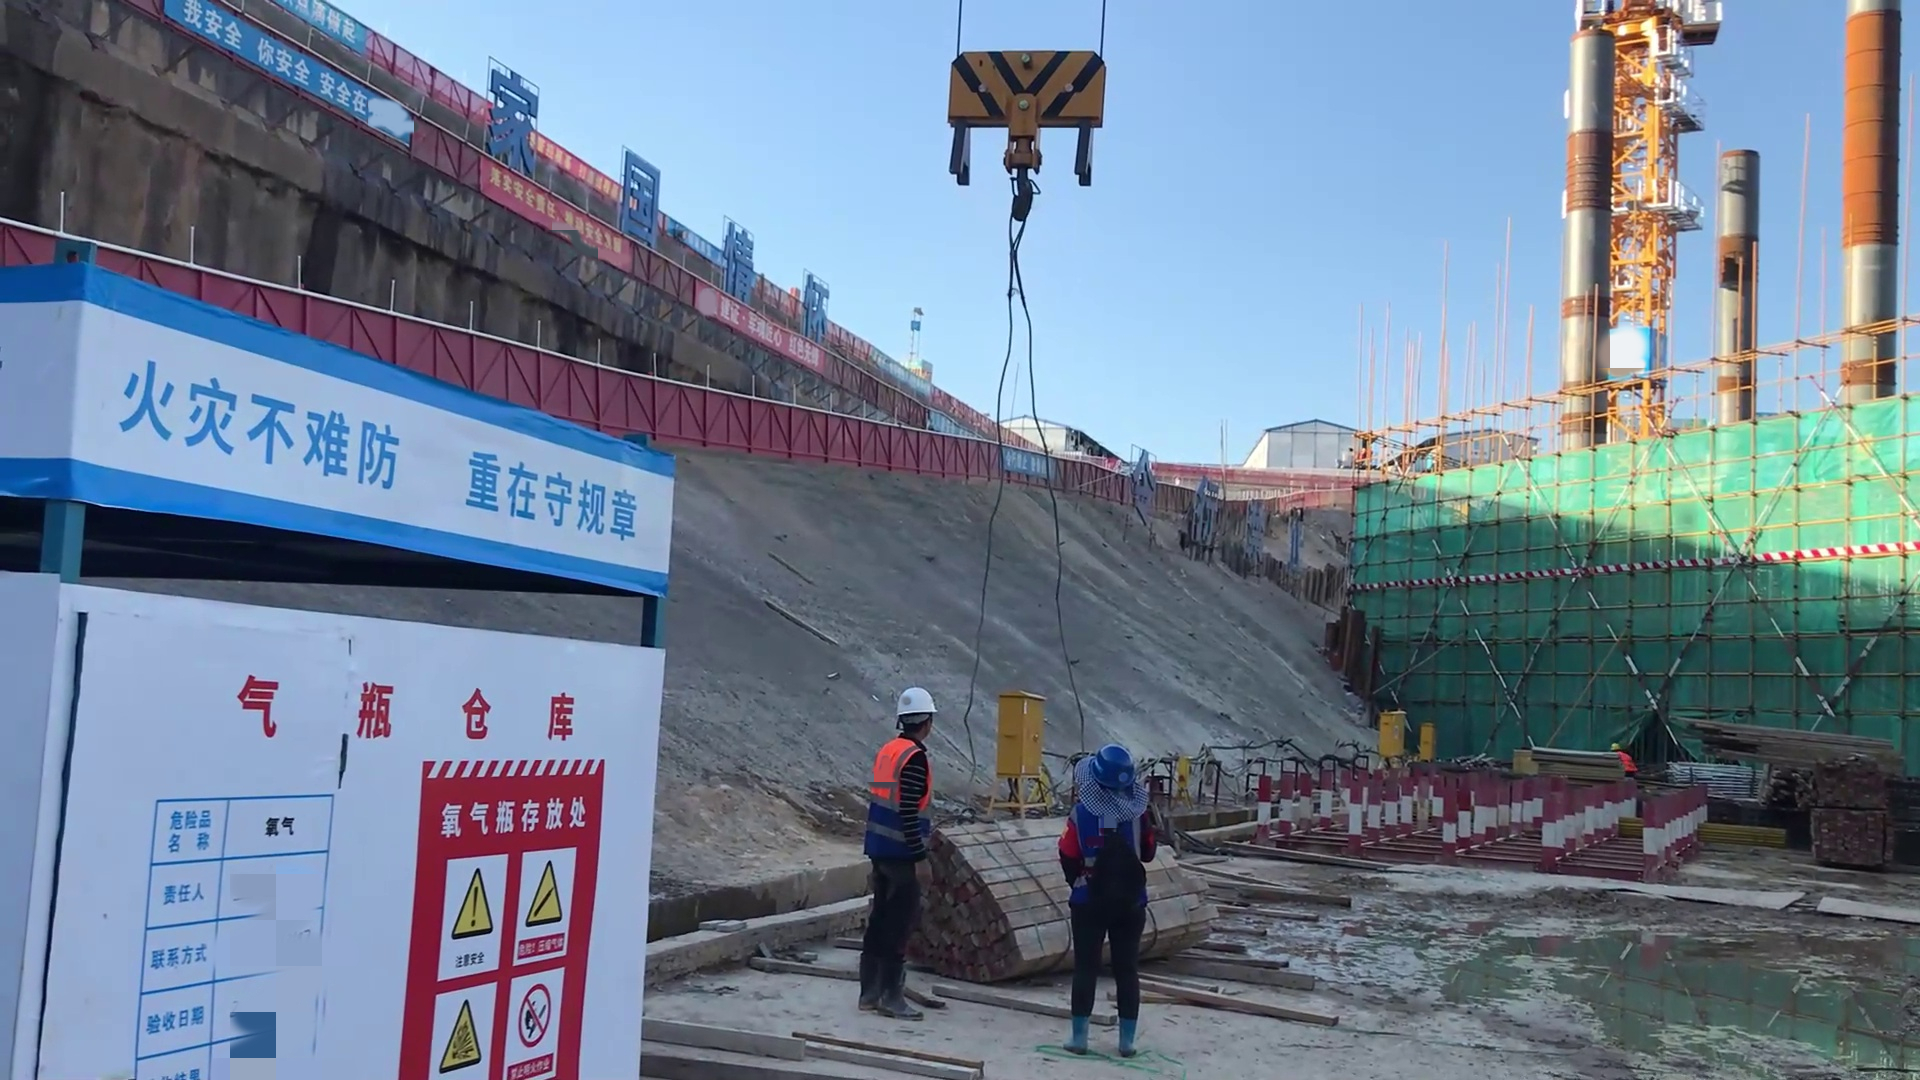ebox: (986, 686, 1059, 781), (1377, 709, 1407, 754), (1415, 723, 1434, 762)
fence: (692, 381, 875, 465), (874, 418, 1007, 486)
helmet: (1081, 734, 1141, 780), (888, 688, 936, 729)
hook: (938, 31, 1103, 189)
person: (1049, 738, 1156, 1064), (868, 676, 939, 1015), (1606, 743, 1640, 784)
slogan: (121, 340, 637, 552), (136, 7, 436, 198), (403, 841, 586, 1080), (459, 100, 651, 323)
vest: (868, 740, 929, 845), (1619, 753, 1635, 775)
wood: (932, 827, 1052, 987), (1695, 701, 1897, 793)
